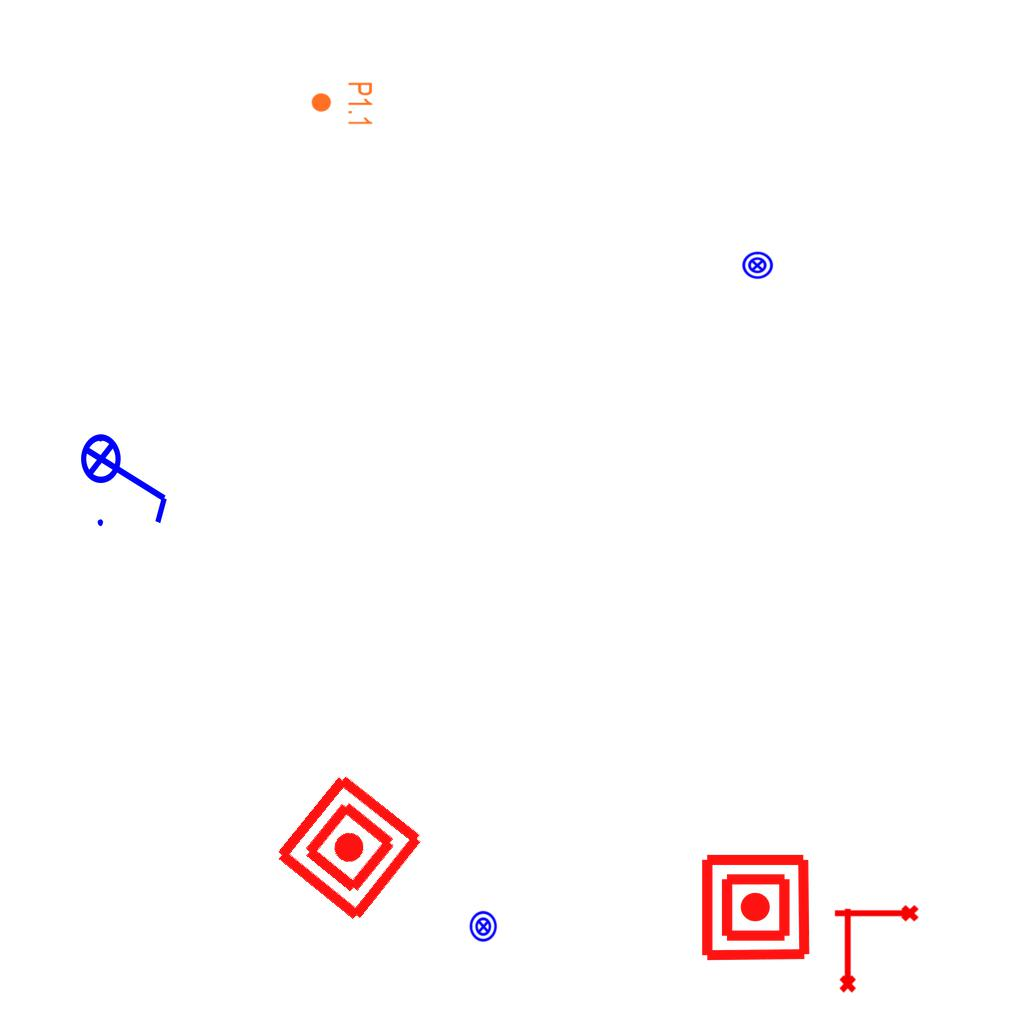ASR_Ansaugoeffnung: (832, 903, 920, 926), (835, 906, 858, 994)
Ausschalter_beleuchtet: (79, 420, 175, 532)
Downlight_LED_Einbauleuchten_Flur: (310, 81, 374, 127)
NAM-Nichtautomatischer_Melder: (270, 768, 429, 927), (699, 851, 812, 964)
Taster_beleuchtet: (467, 910, 500, 943), (741, 249, 774, 282)
